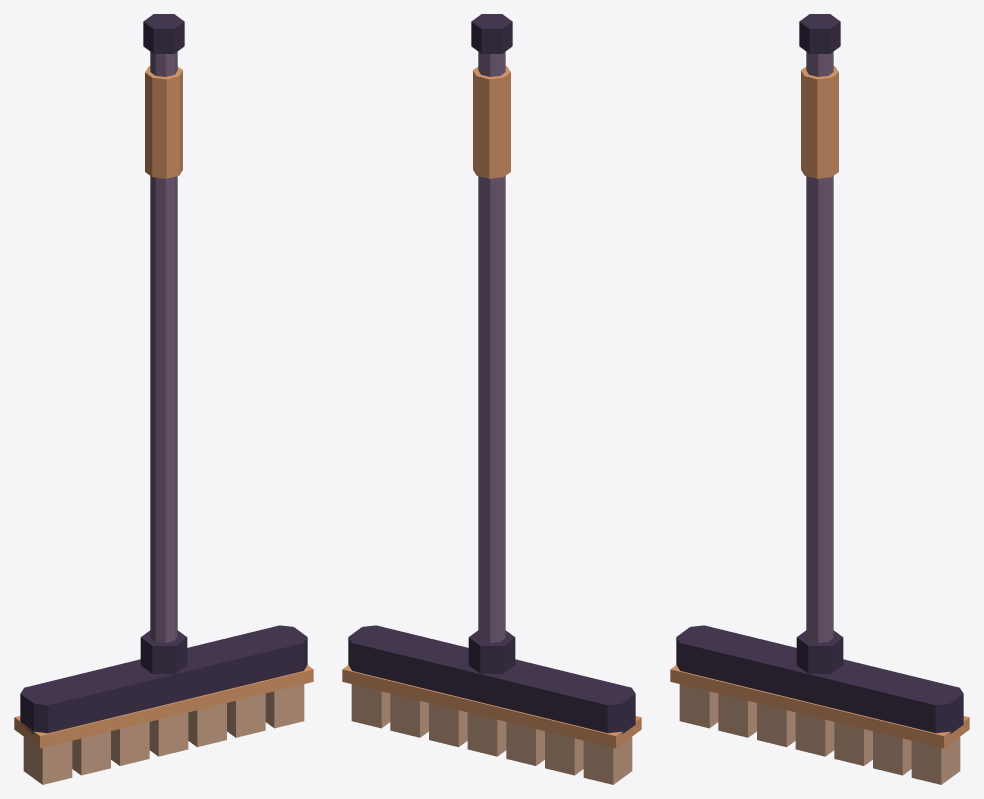
File: panel_brush.obj
The picture shows the model from 3 angles, left to right: view 1: azimuth 30°, elevation 25°; view 2: azimuth 150°, elevation 25°; view 3: azimuth 330°, elevation 25°; orthographic projection.
Parts seen in each view (by area): view 1: panel_brush_deep_purple, panel_brush_mauve, panel_brush_clay_sand, panel_brush_warm_orange; view 2: panel_brush_deep_purple, panel_brush_mauve, panel_brush_clay_sand, panel_brush_warm_orange; view 3: panel_brush_deep_purple, panel_brush_mauve, panel_brush_clay_sand, panel_brush_warm_orange.
Boxes of the visible parts, left/top/right/bottom form: panel_brush_deep_purple: left=20, top=14, right=307, bottom=734; panel_brush_mauve: left=150, top=52, right=177, bottom=642; panel_brush_clay_sand: left=23, top=684, right=304, bottom=784; panel_brush_warm_orange: left=14, top=66, right=313, bottom=748; panel_brush_deep_purple: left=348, top=14, right=635, bottom=733; panel_brush_mauve: left=478, top=52, right=505, bottom=642; panel_brush_clay_sand: left=351, top=684, right=632, bottom=784; panel_brush_warm_orange: left=342, top=66, right=641, bottom=748; panel_brush_deep_purple: left=676, top=14, right=963, bottom=733; panel_brush_mauve: left=806, top=52, right=833, bottom=642; panel_brush_clay_sand: left=679, top=684, right=960, bottom=784; panel_brush_warm_orange: left=670, top=66, right=969, bottom=748.
Size of the model in its own units: 0.46 by 1.16 by 0.075.
